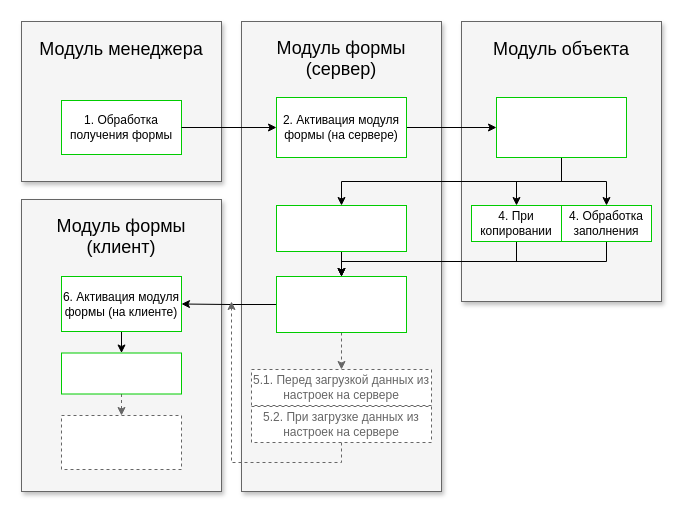
Image size: 685x516. Some labels were removed from this diagram. The centre of each missing label's shape, as x and y in pixels:
"3. Активация модуля объекта" goes at point (561, 127).
"4. При чтении на сервере" goes at point (341, 228).
"5. При создании на сервере" goes at point (341, 304).
"7. При открытии" goes at point (121, 373).
"7.1. При повторном открытии" goes at point (121, 442).
